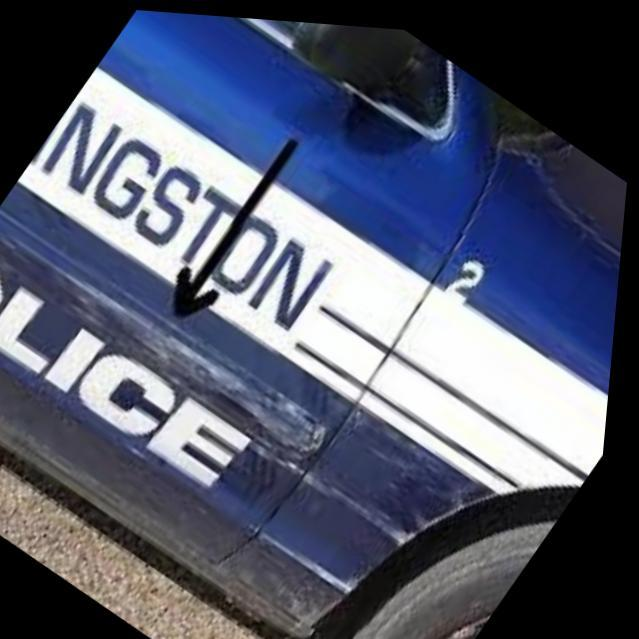rub: (0, 229, 349, 461), (237, 411, 511, 637)
